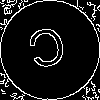C: (25, 25, 72, 79)
